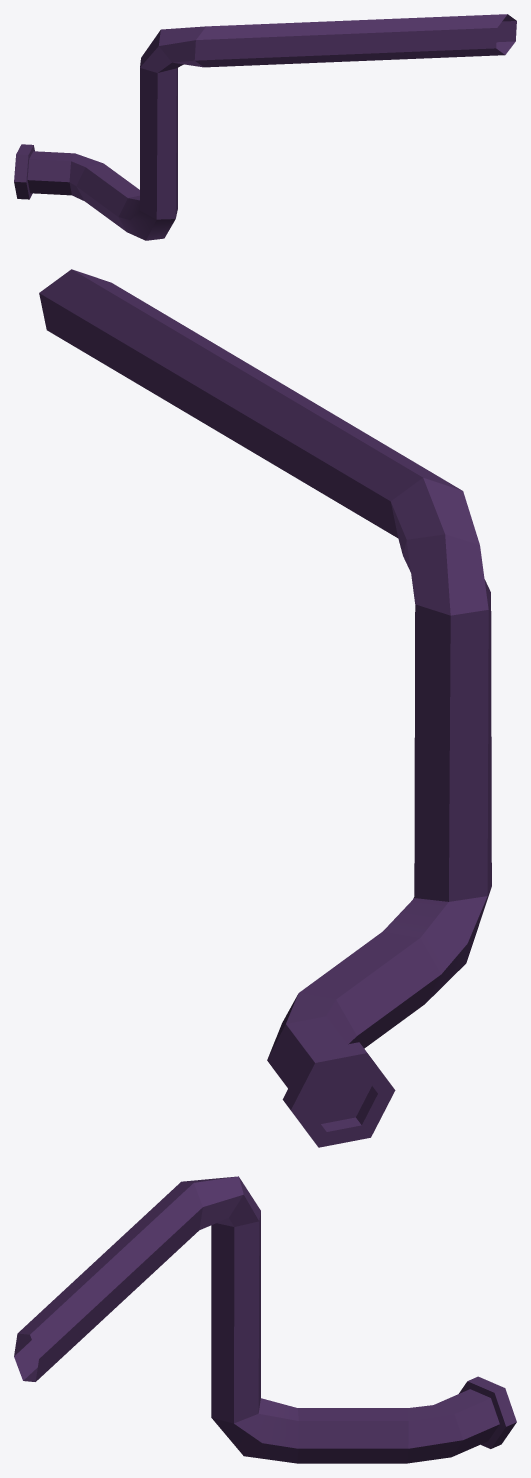
File: Pipa_Larga.fbx
3 renders of one model, top to bottom at view 1: azimuth 30°, elevation 25°; view 2: azimuth 150°, elevation 25°; view 3: azimuth 270°, elevation 25°, orthographic. The views are drawn at different scales.
Visible parts, largest first — view 1: Level05_Tube16; view 2: Level05_Tube16; view 3: Level05_Tube16.
Part boxes in pixels (<box>): Level05_Tube16: <box>14,14,516,240</box>; Level05_Tube16: <box>39,269,491,1147</box>; Level05_Tube16: <box>14,1176,516,1463</box>.
Size of the model in its own units: 621 by 405 by 609.
